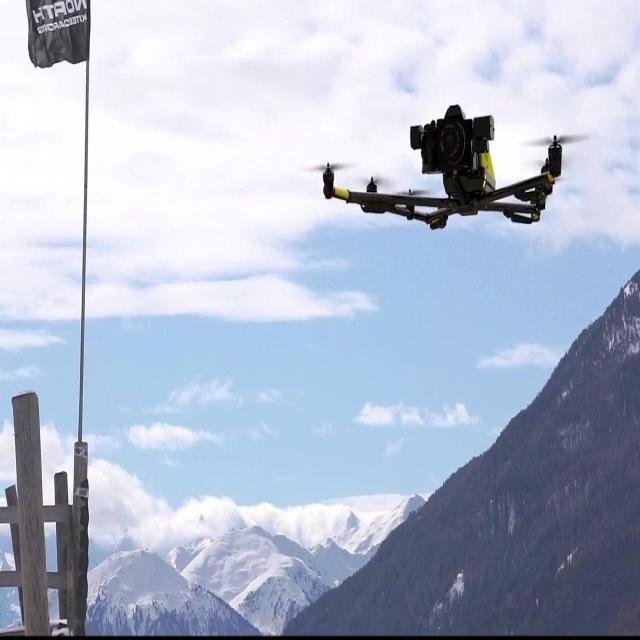drone: (309, 103, 569, 242)
